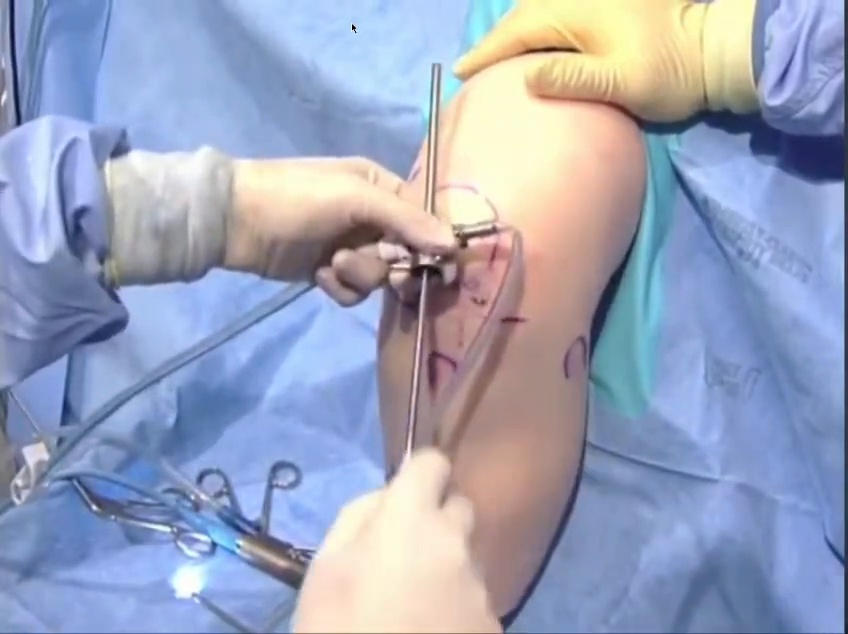arthroscope: (95, 284, 298, 448), (639, 0, 848, 153)
probe: (780, 166, 848, 573), (668, 150, 808, 318), (140, 458, 254, 524)
